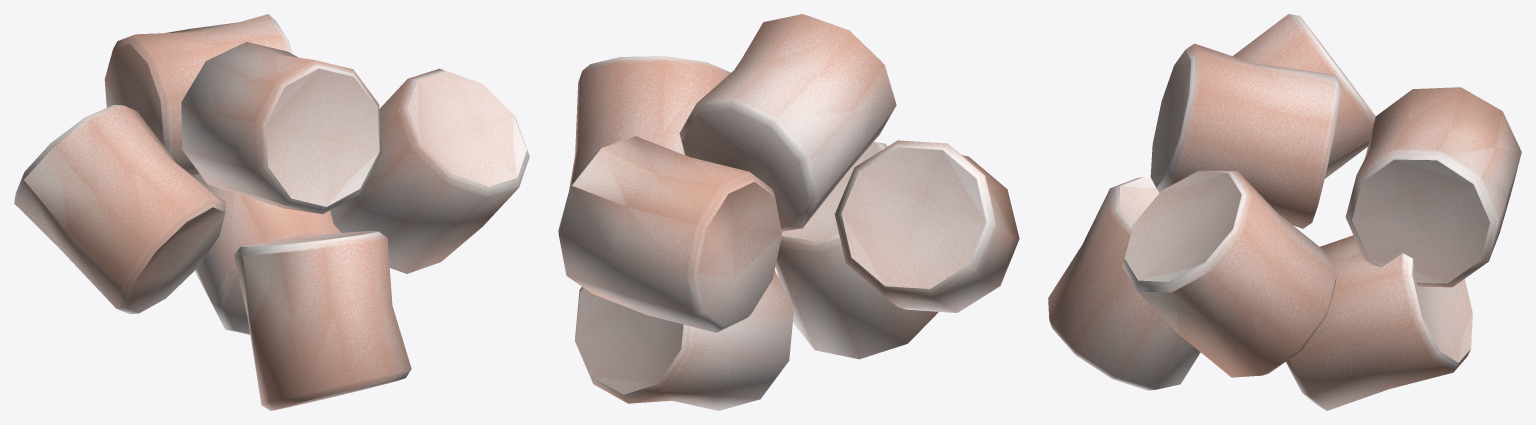
Rendered from bonbonbowl.fbx.
3 views of the same model, side by side, from view 1: azimuth 30°, elevation 25°; view 2: azimuth 150°, elevation 25°; view 3: azimuth 270°, elevation 25° (orthographic). The views are drawn at different scales.
Parts seen in each view (by area): view 1: marshmallow; view 2: marshmallow; view 3: marshmallow.
Boxes of the visible parts, box(x1,y1,x2,y2) form: marshmallow: box(14, 14, 529, 410); marshmallow: box(558, 14, 1019, 410); marshmallow: box(1048, 14, 1521, 410).
Size of the model in its own units: 157 by 111 by 143.
